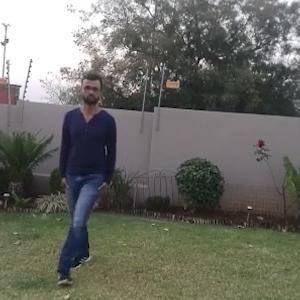follow: (64, 61, 143, 291)
